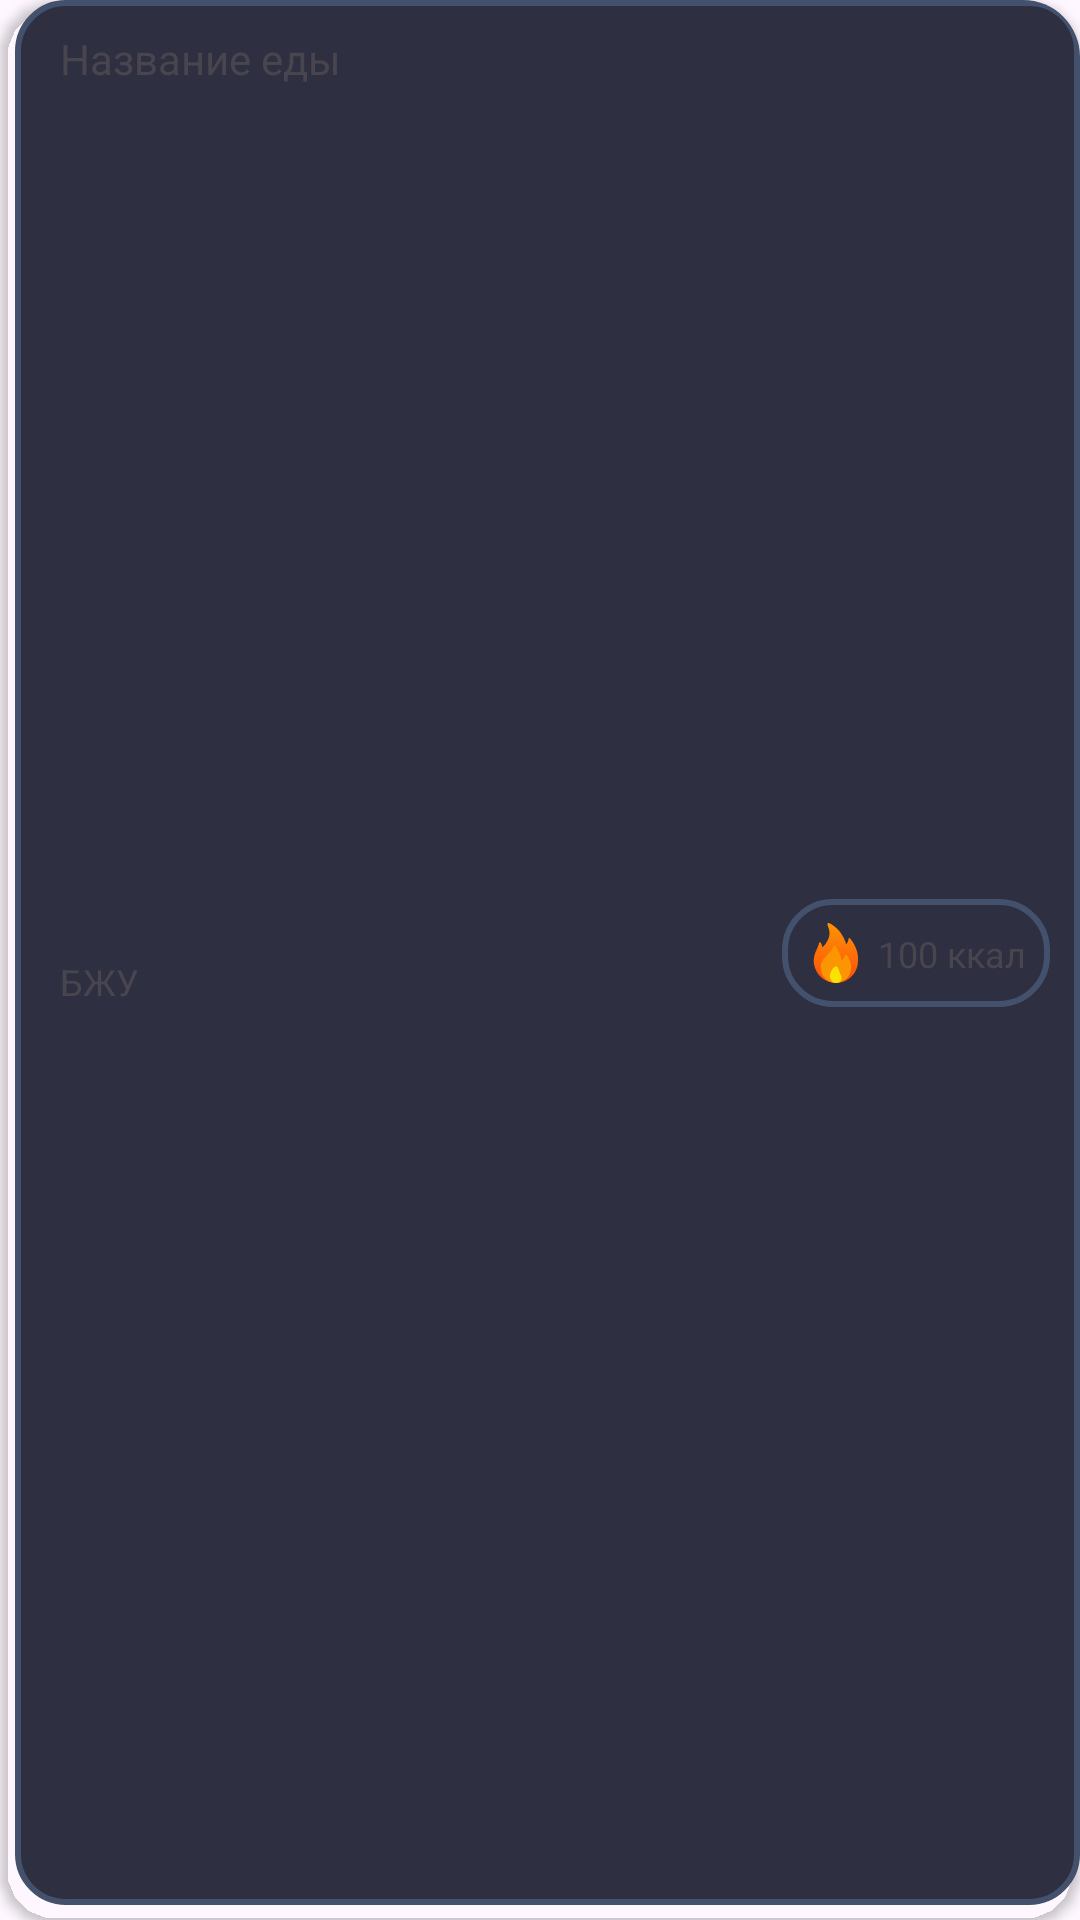

Named icons in this screenshot (1080px×1920px) and their centers, [x,y]:
fire kkal: [835,953]
